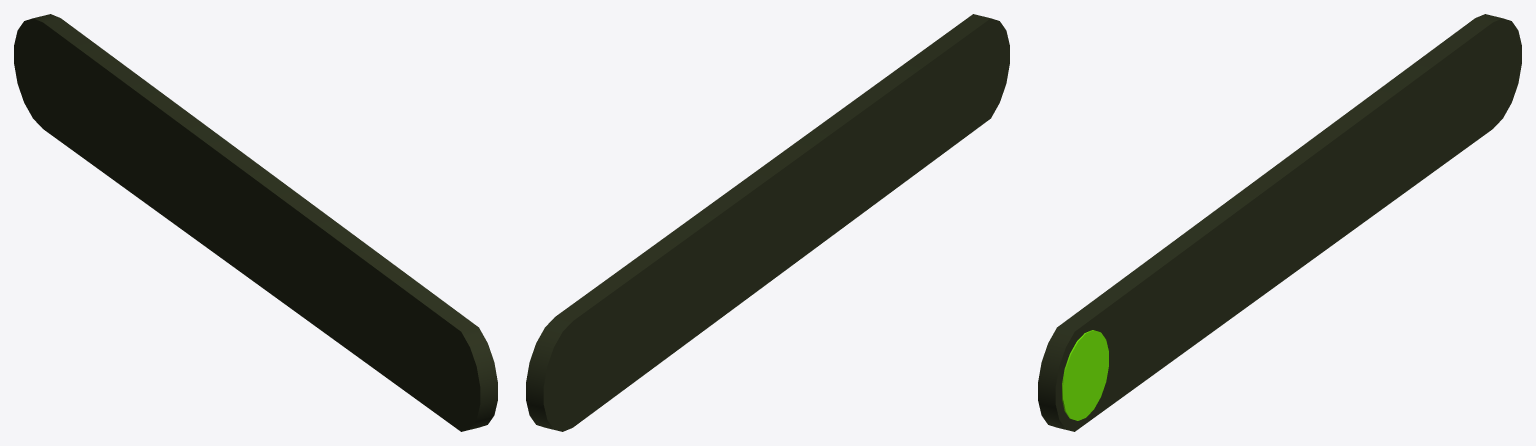
Rendered from HubCap.fbx.
The picture shows the model from 3 angles, left to right: view 1: azimuth 30°, elevation 25°; view 2: azimuth 150°, elevation 25°; view 3: azimuth 330°, elevation 25°; orthographic projection.
Parts seen in each view (by area): view 1: HubCap; view 2: HubCap; view 3: HubCap, LED.
Part boxes in pixels (x1,y1,x2,y2): HubCap: (14,14,497,431); HubCap: (526,14,1009,431); HubCap: (1038,14,1521,431); LED: (1062,330,1108,420).
Size of the model in its own units: 0.0106 by 0.057 by 0.4514.
